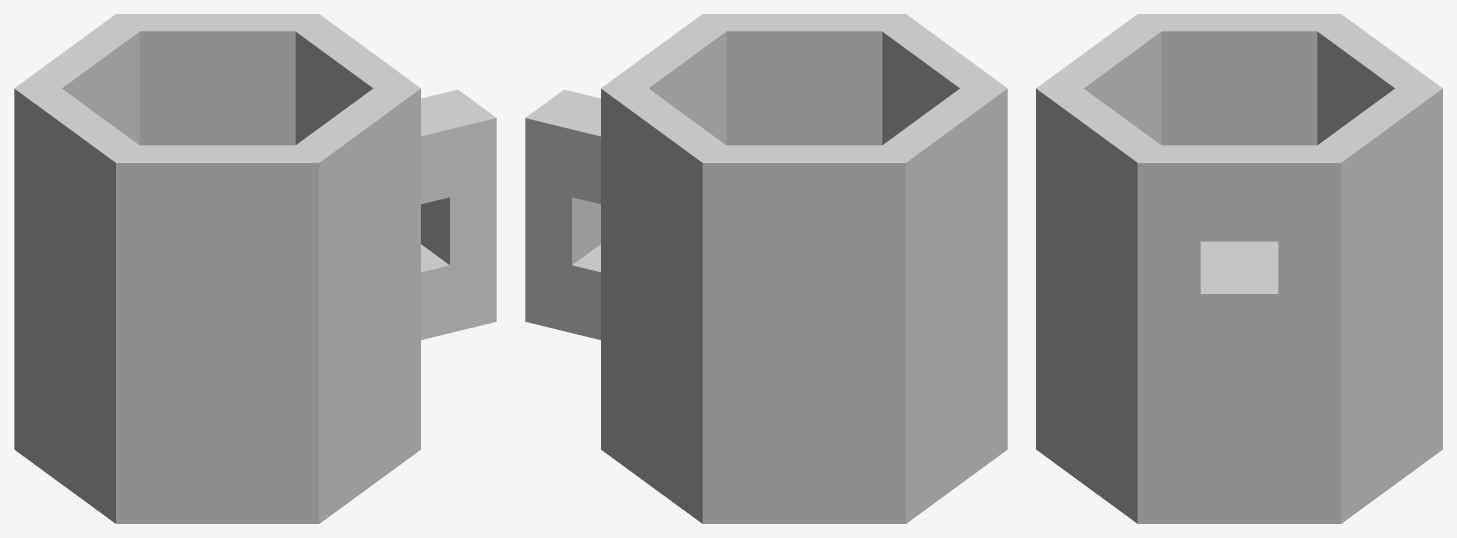
The model's file is Mug.fbx.
The picture shows the model from 3 angles, left to right: view 1: azimuth 30°, elevation 25°; view 2: azimuth 150°, elevation 25°; view 3: azimuth 270°, elevation 25°; orthographic projection.
Visible parts, largest first — view 1: Mug; view 2: Mug; view 3: Mug.
Boxes of the visible parts, left/top/right/bottom form: Mug: left=14, top=14, right=496, bottom=523; Mug: left=525, top=14, right=1007, bottom=523; Mug: left=1036, top=14, right=1442, bottom=523.
Size of the model in its own units: 0.1482 by 0.124 by 0.1267.
